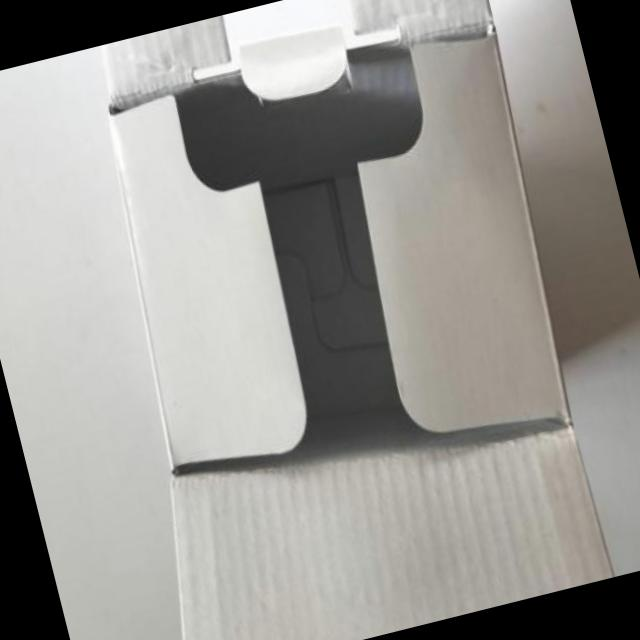cardboard paper: (96, 0, 613, 640)
